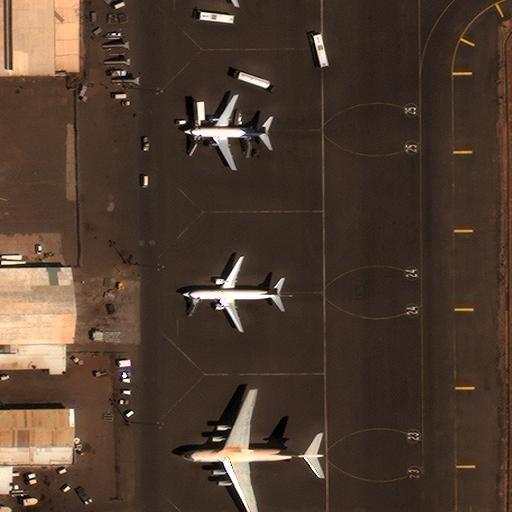Medium Civil Transport: (182, 255, 293, 331), (182, 256, 292, 331), (183, 94, 268, 170)
Military Transport: (180, 389, 324, 512)
